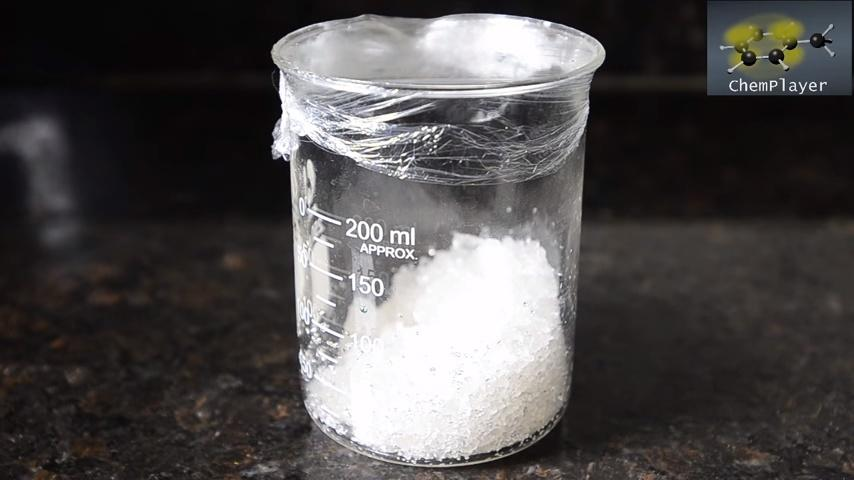Beaker: (253, 8, 645, 465)
